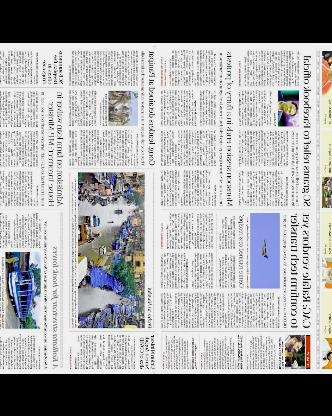RQ4: (262, 238, 268, 258)
